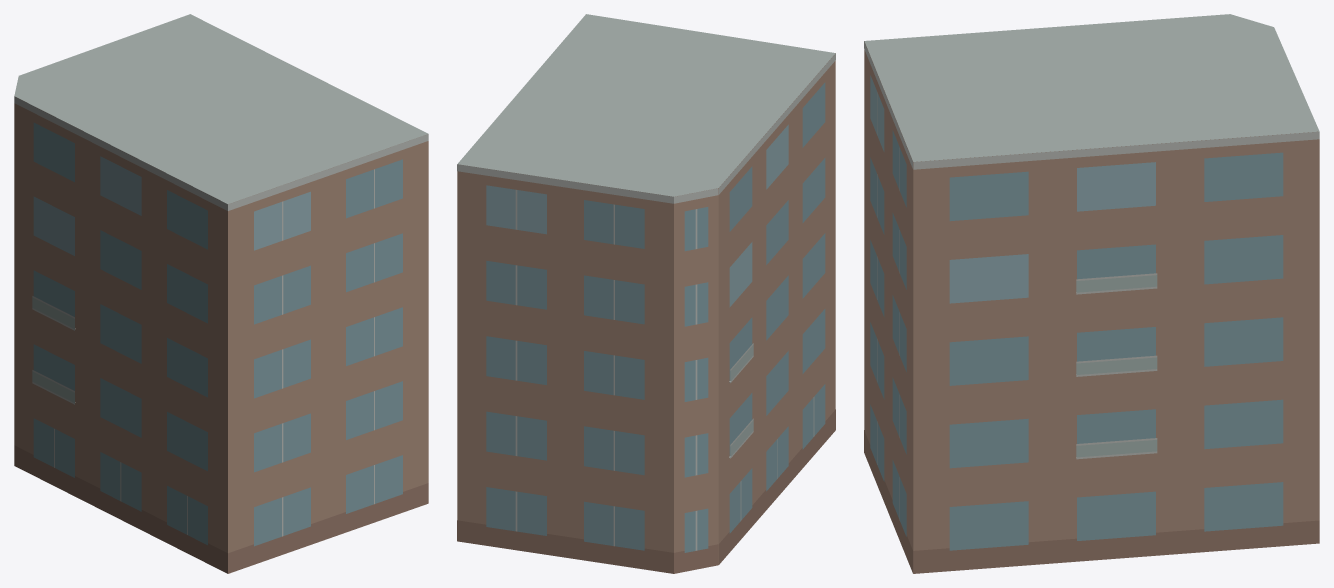
Rendered from survey-upis-32739336.glb.
3 renders of one model, left to right at view 1: azimuth 30°, elevation 25°; view 2: azimuth 150°, elevation 25°; view 3: azimuth 270°, elevation 25°, orthographic. The views are drawn at different scales.
Parts seen in each view (by area): view 1: survey-upis-32739336.tmp; view 2: survey-upis-32739336.tmp; view 3: survey-upis-32739336.tmp.
Part boxes in pixels (x1,y1,x2,y2): survey-upis-32739336.tmp: [14, 14, 428, 573]; survey-upis-32739336.tmp: [457, 14, 835, 573]; survey-upis-32739336.tmp: [864, 14, 1319, 573].
Size of the model in its own units: 10.03 by 13 by 13.04.
